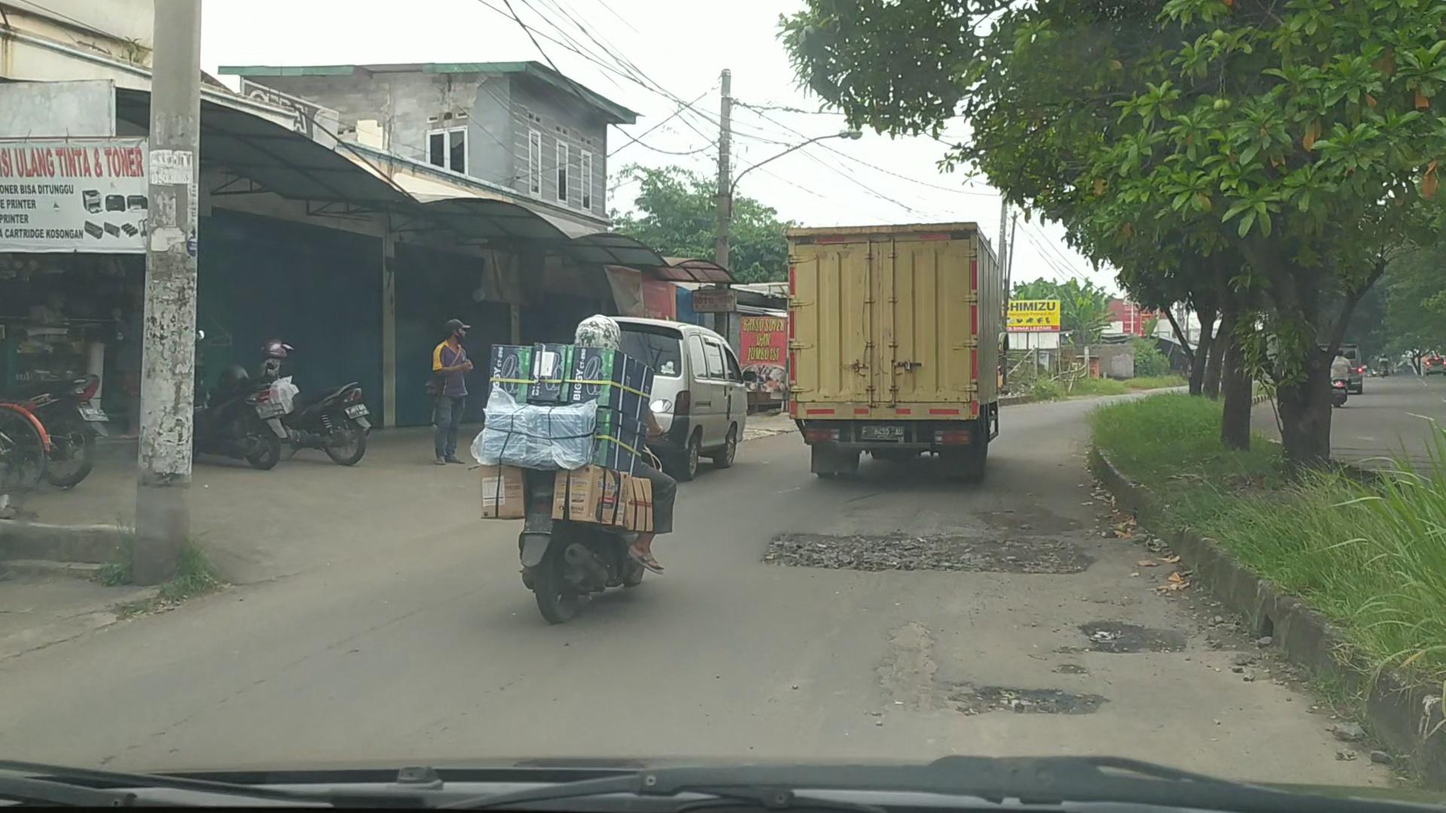pothole: (870, 622, 1097, 722), (754, 530, 1095, 576), (1049, 616, 1192, 659)
